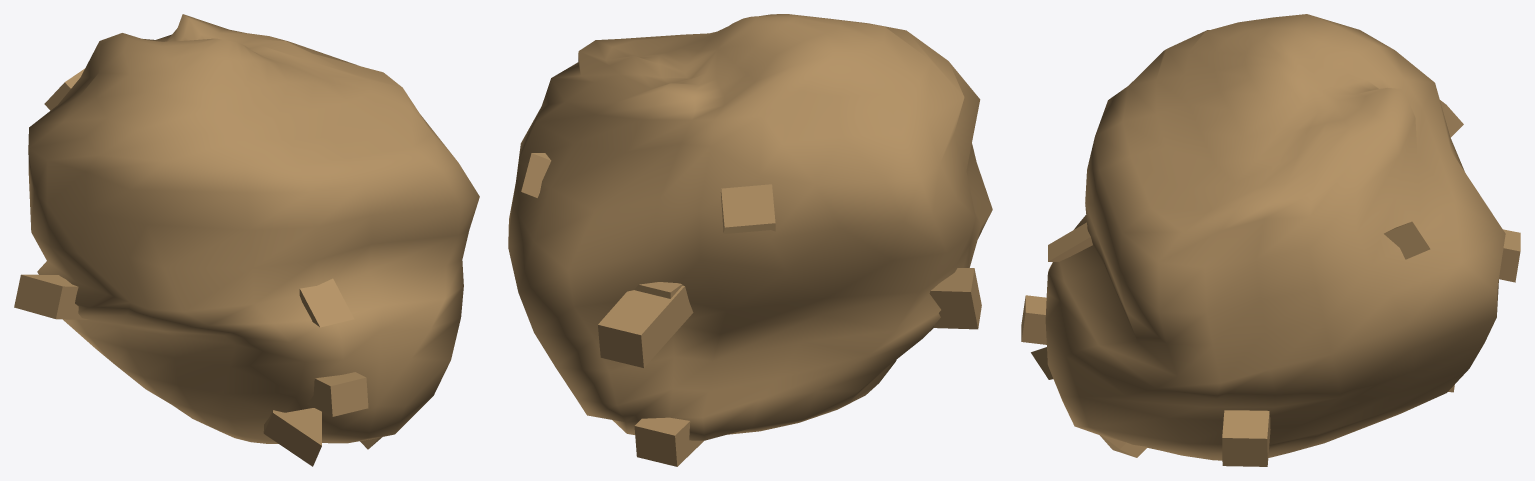
Rendered from FryClump2.fbx.
The picture shows the model from 3 angles, left to right: view 1: azimuth 30°, elevation 25°; view 2: azimuth 150°, elevation 25°; view 3: azimuth 270°, elevation 25°; orthographic projection. The views are drawn at different scales.
Parts seen in each view (by area): view 1: polySurface4; view 2: polySurface4; view 3: polySurface4.
Part boxes in pixels (x1,y1,x2,y2): polySurface4: [14, 14, 479, 466]; polySurface4: [508, 14, 992, 466]; polySurface4: [1021, 14, 1520, 466].
Bounding box in the file's own units: 18.41 × 16.41 × 19.51.
